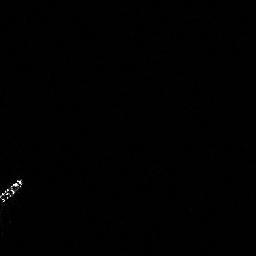ship: (1, 173, 27, 208)
